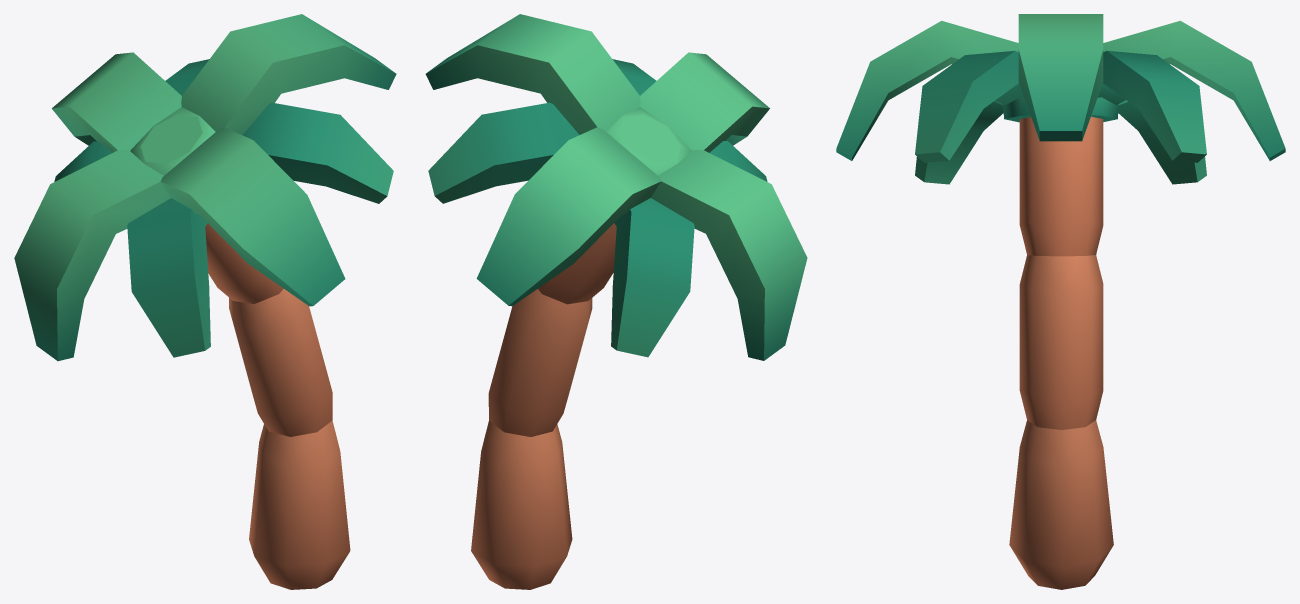
File: palm-tree.glb
The picture shows the model from 3 angles, left to right: view 1: azimuth 30°, elevation 25°; view 2: azimuth 150°, elevation 25°; view 3: azimuth 270°, elevation 25°; orthographic projection.
Parts seen in each view (by area): view 1: palm-detailed-bend; view 2: palm-detailed-bend; view 3: palm-detailed-bend.
Boxes of the visible parts, x1=… form: palm-detailed-bend: x1=14, y1=14, x2=396, y2=589; palm-detailed-bend: x1=425, y1=14, x2=807, y2=589; palm-detailed-bend: x1=836, y1=14, x2=1285, y2=589.
Size of the model in its own units: 2.88 by 4.25 by 3.22.
Materials: 1 (1 with a texture image).
